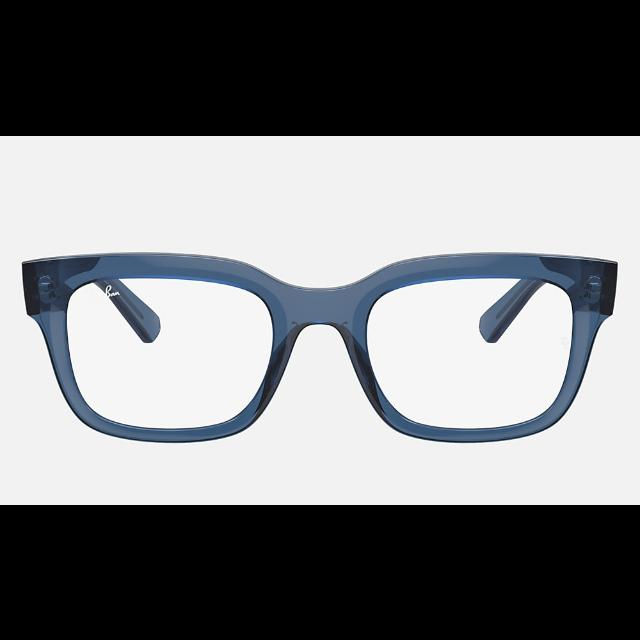glasses: (21, 256, 624, 442)
